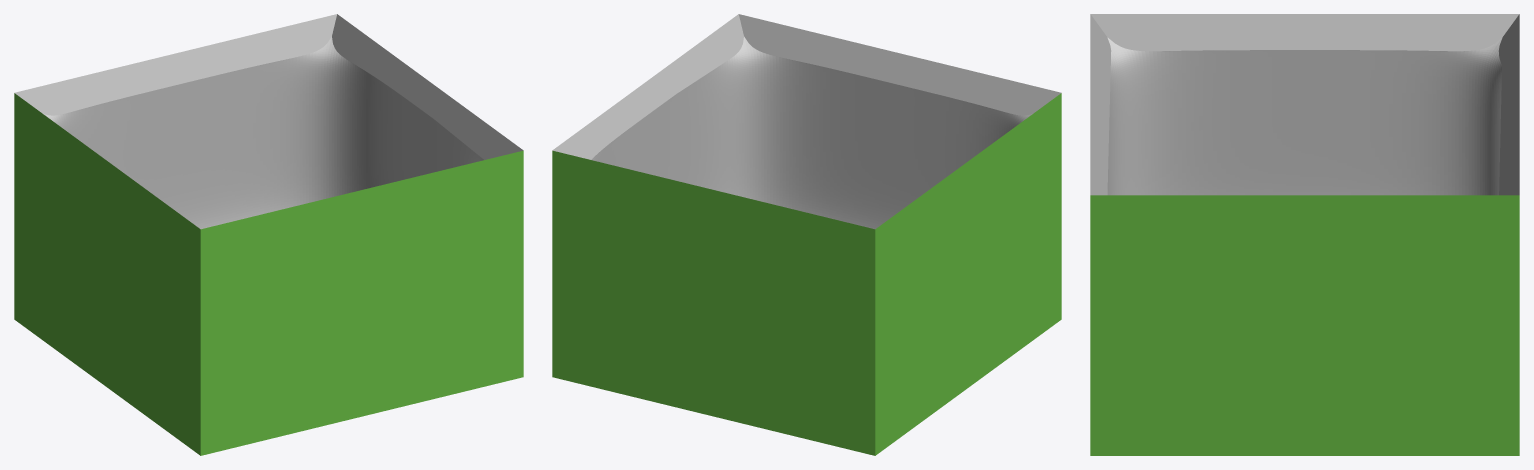
File: arena.fbx
The picture shows the model from 3 angles, left to right: view 1: azimuth 30°, elevation 25°; view 2: azimuth 150°, elevation 25°; view 3: azimuth 270°, elevation 25°; orthographic projection. The views are drawn at different scales.
Parts seen in each view (by area): view 1: arena; view 2: arena; view 3: arena.
Part boxes in pixels (x1=…): arena: x1=14, y1=14, x2=523, y2=455; arena: x1=552, y1=14, x2=1061, y2=455; arena: x1=1090, y1=14, x2=1519, y2=455.
Bounding box in the file's own units: 2187 × 1466 × 2187.
